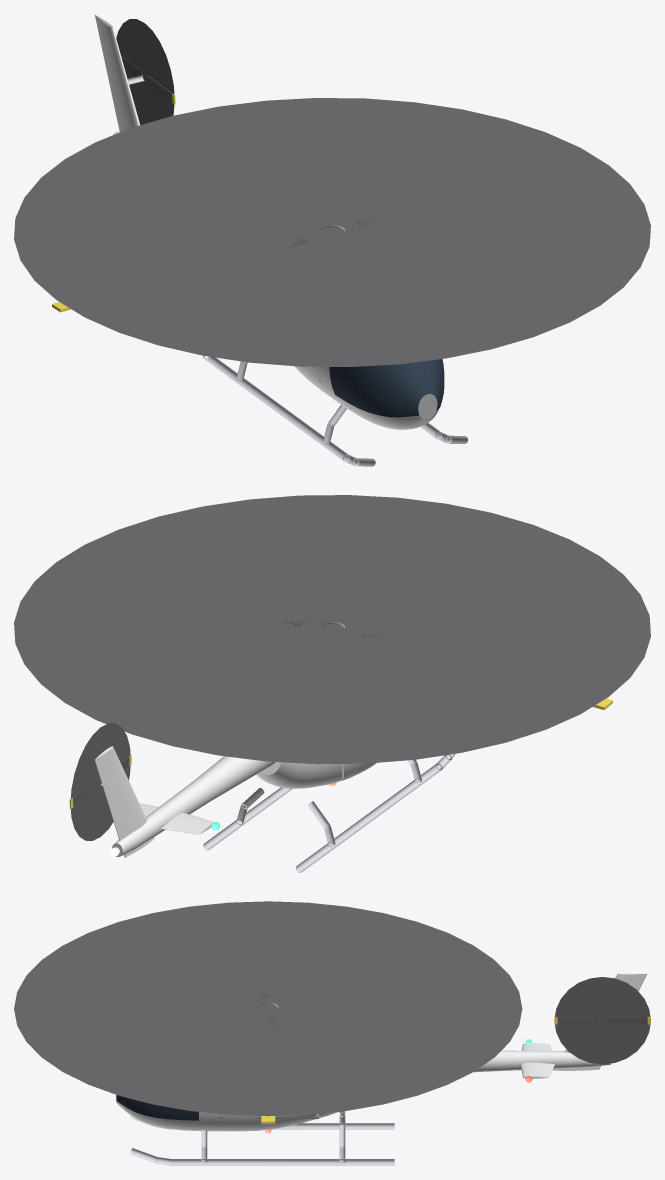
The picture shows the model from 3 angles, top to bottom: view 1: azimuth 30°, elevation 25°; view 2: azimuth 150°, elevation 25°; view 3: azimuth 270°, elevation 25°; orthographic projection. The views are drawn at different scales.
Visible parts, largest first — view 1: airframe; view 2: airframe; view 3: airframe, tail.
Boxes of the visible parts, box(x1,y1,x2,y2) form: airframe: box(14, 15, 650, 466); airframe: box(14, 495, 650, 872); airframe: box(14, 901, 650, 1165); tail: box(554, 1016, 650, 1024).
Size of the model in its own units: 10.1 by 3.92 by 12.66.
